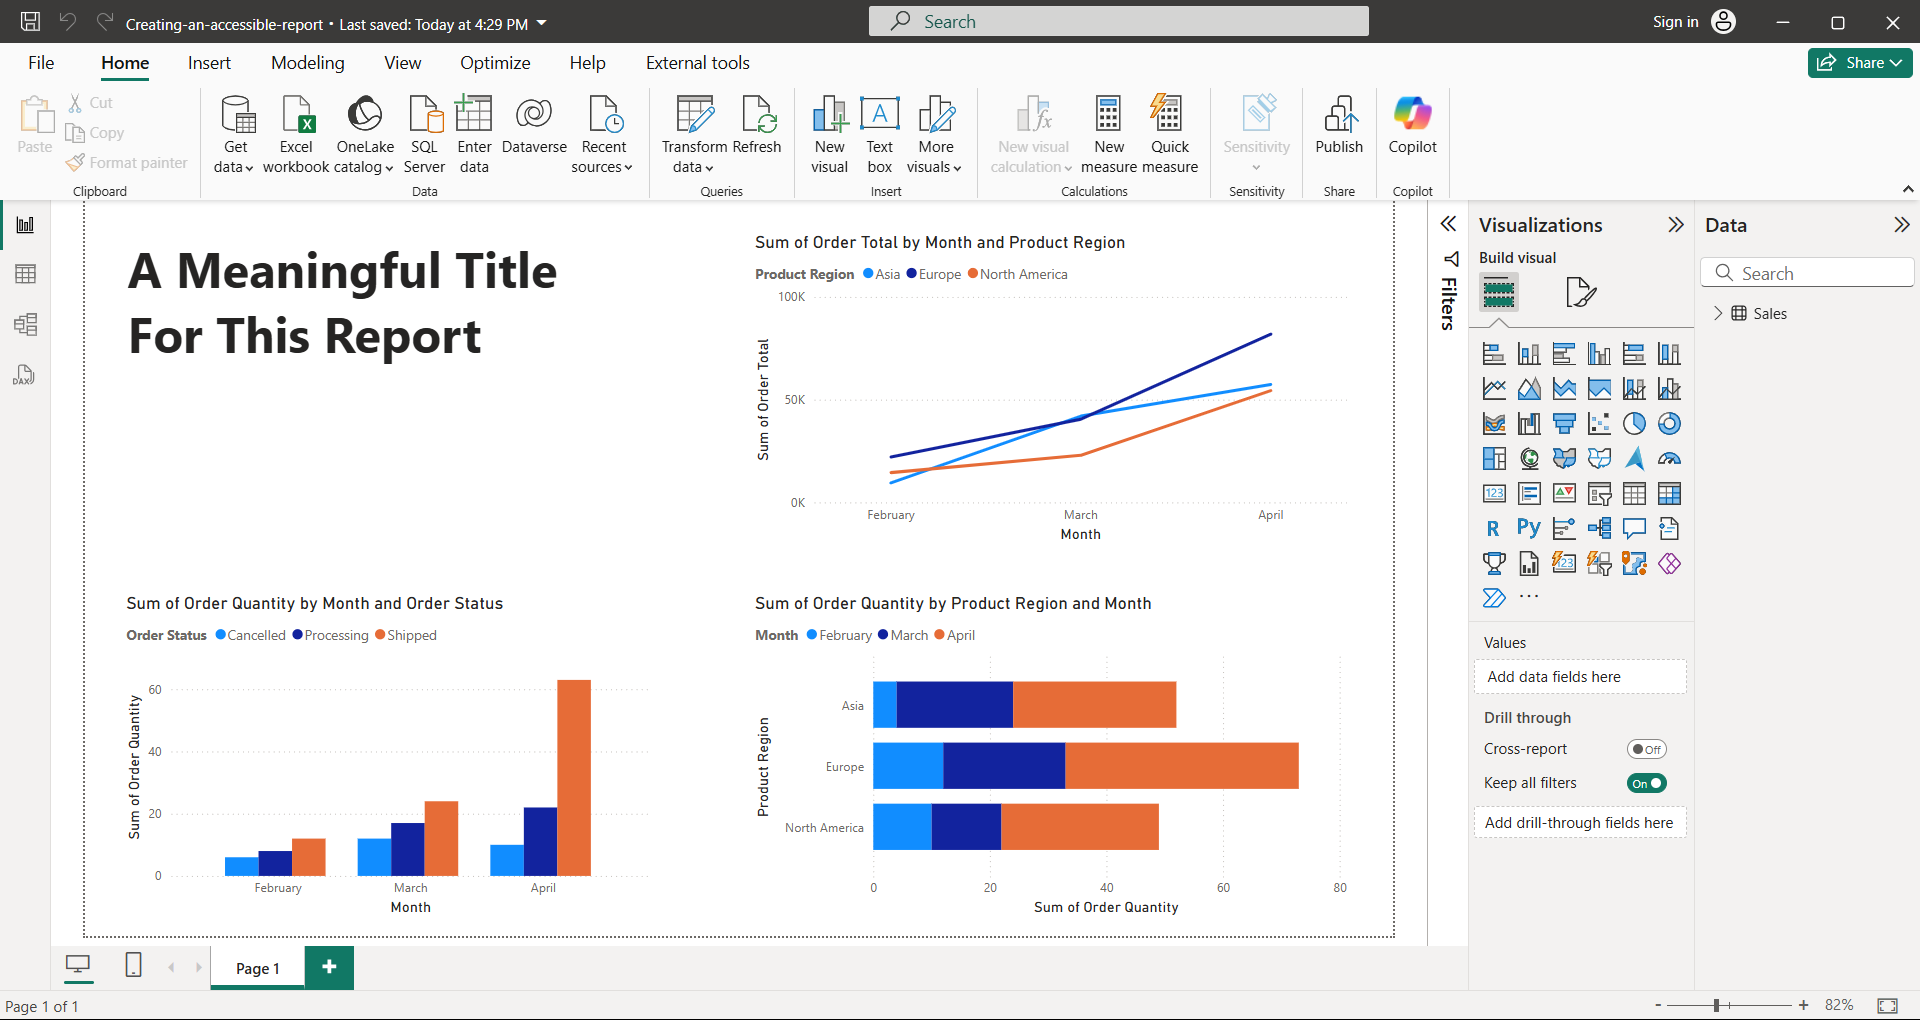

The dashboard page shown, as its layout file describes it:
{"tool":"powerbi","page":{"name":"Page 1","canvas":[1280,720],"ordinal":0},"visuals":[{"type":"barChart","title":"Monthly Order Quantities by Product Region","fields":{"Category":["Sales.Product Region"],"Y":["Sum(Sales.Order Quantity)"],"Series":["Sales.Order Date.Variation.Date Hierarchy.Month"]},"box":[650,384,589,321],"z":3000},{"type":"clusteredColumnChart","title":"Monthly Order Quantities by Order Status","fields":{"Category":["Sales.Month"],"Y":["Sum(Sales.Order Quantity)"],"Series":["Sales.Order Status"]},"box":[36,384,522,321],"z":3125},{"type":"lineChart","title":"Monthly Order Total by Product Region","fields":{"Category":["Sales.Month"],"Y":["Sum(Sales.Order Total)"],"Series":["Sales.Product Region"]},"box":[650,30,589,309],"z":3250},{"type":"textbox","box":[36.2,29.8,522.2,309.5],"z":3500}]}

Visuals, with their boxes on the page's 1280x720 design canvas (x1, y1, x2, y2). These are canvas units, not pixel positions in the 1920x1020 screenshot, which may show the page scaled, cropped or inside an application window:
"Monthly Order Quantities by Product Region" barChart: {"x1": 650, "y1": 384, "x2": 1239, "y2": 705}
"Monthly Order Quantities by Order Status" clusteredColumnChart: {"x1": 36, "y1": 384, "x2": 558, "y2": 705}
"Monthly Order Total by Product Region" lineChart: {"x1": 650, "y1": 30, "x2": 1239, "y2": 339}
textbox: {"x1": 36, "y1": 30, "x2": 558, "y2": 339}
